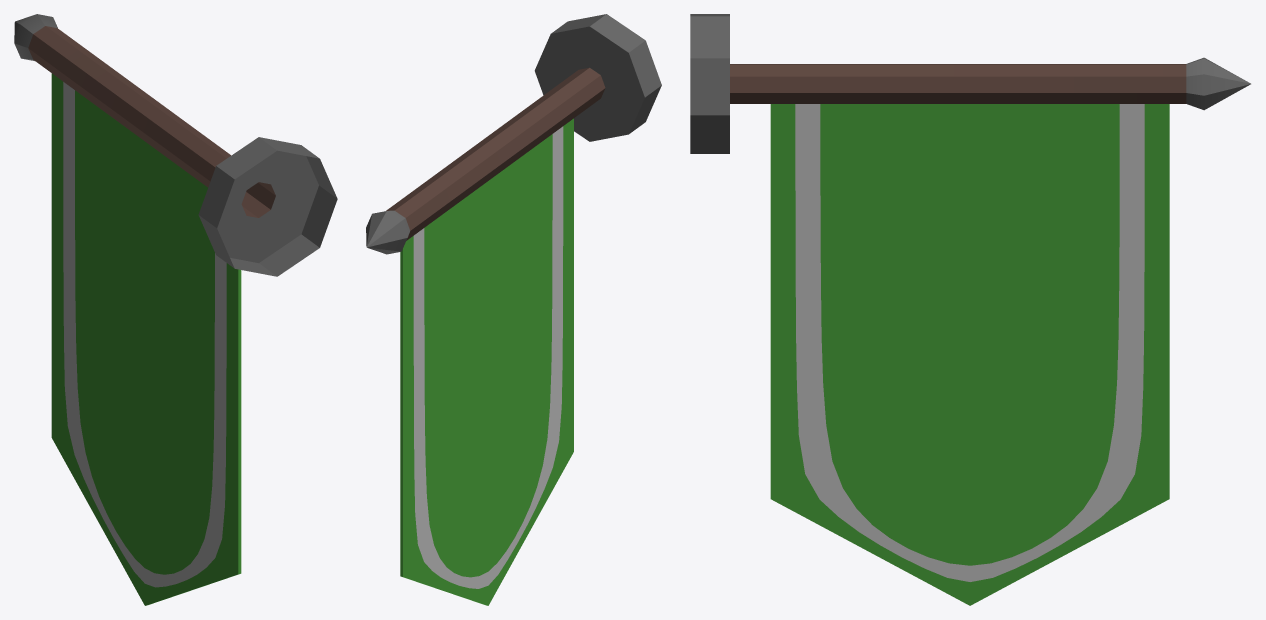
Rendered from Flag.fbx.
The picture shows the model from 3 angles, left to right: view 1: azimuth 30°, elevation 25°; view 2: azimuth 150°, elevation 25°; view 3: azimuth 270°, elevation 25°; orthographic projection. The views are drawn at different scales.
Visible parts, largest first — view 1: pPlane2; view 2: pPlane2; view 3: pPlane2.
Boxes of the visible parts, box(x1,y1,x2,y2) form: pPlane2: box(14, 14, 337, 605); pPlane2: box(366, 14, 661, 605); pPlane2: box(690, 14, 1250, 605).
Size of the model in its own units: 0.3729 by 1.63 by 1.41.
1 material, 1 textured.
